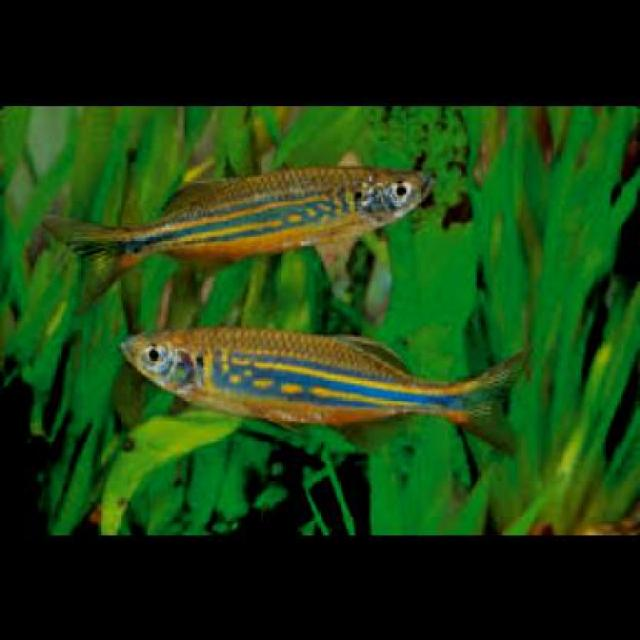ZebraFish: (44, 162, 433, 312), (117, 320, 520, 458)
